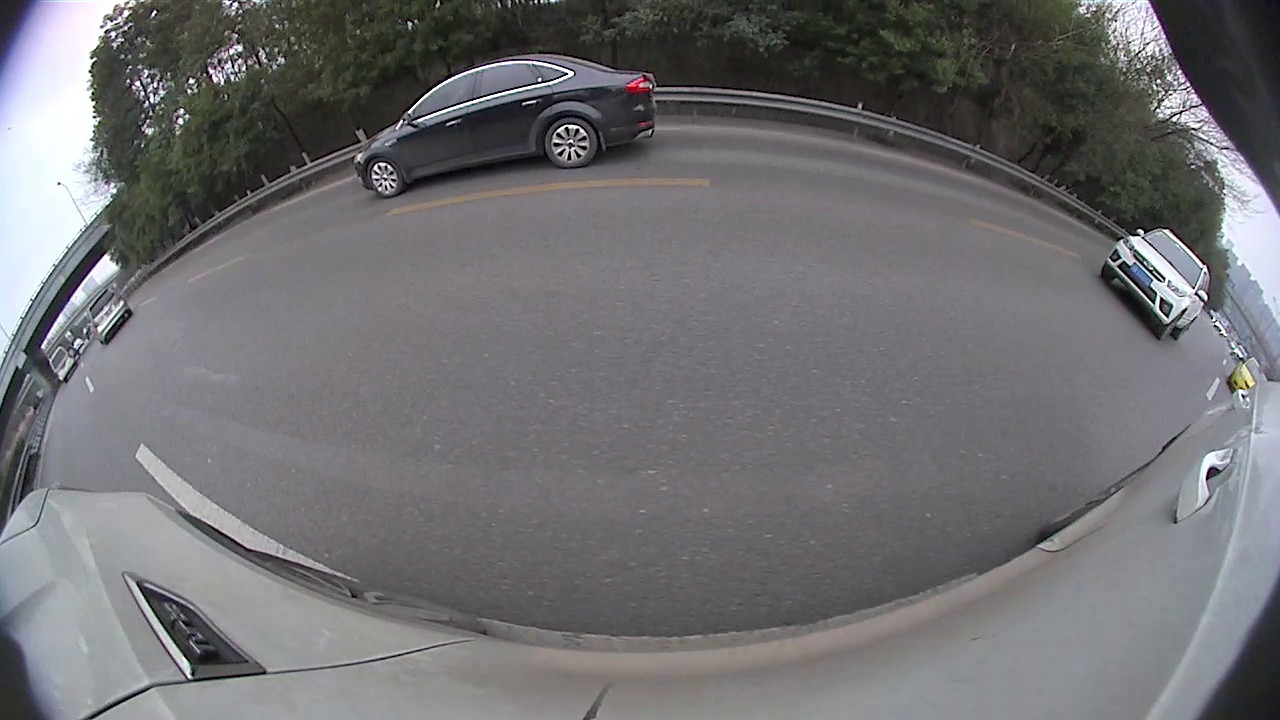car: (1, 171, 403, 522), (578, 97, 842, 271), (1016, 221, 1162, 308), (881, 176, 965, 230), (506, 156, 581, 206), (838, 168, 864, 207)
front: (339, 224, 392, 296), (1024, 240, 1046, 267)
rear: (16, 401, 136, 527), (1100, 272, 1125, 304), (913, 202, 928, 226)
